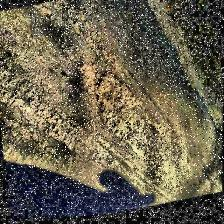pothole: (92, 66, 146, 146)
